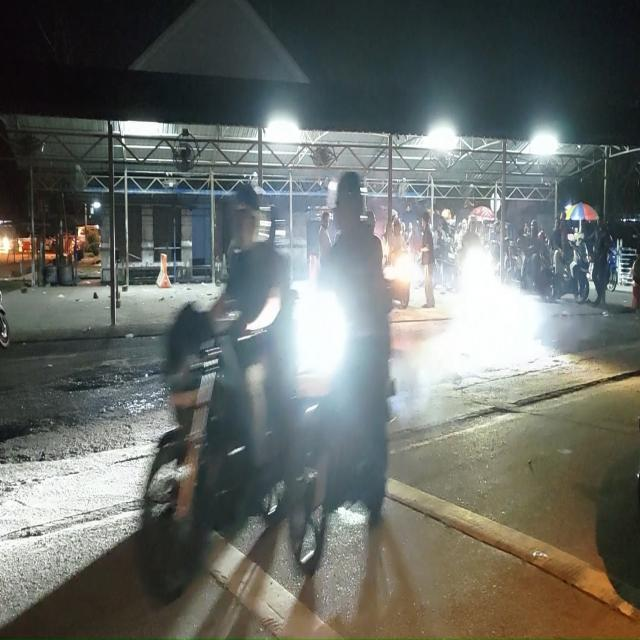Golongan II: (139, 297, 285, 603), (288, 298, 394, 575), (552, 242, 590, 304), (383, 251, 415, 308), (434, 242, 459, 292), (503, 238, 523, 285), (607, 248, 618, 292)
